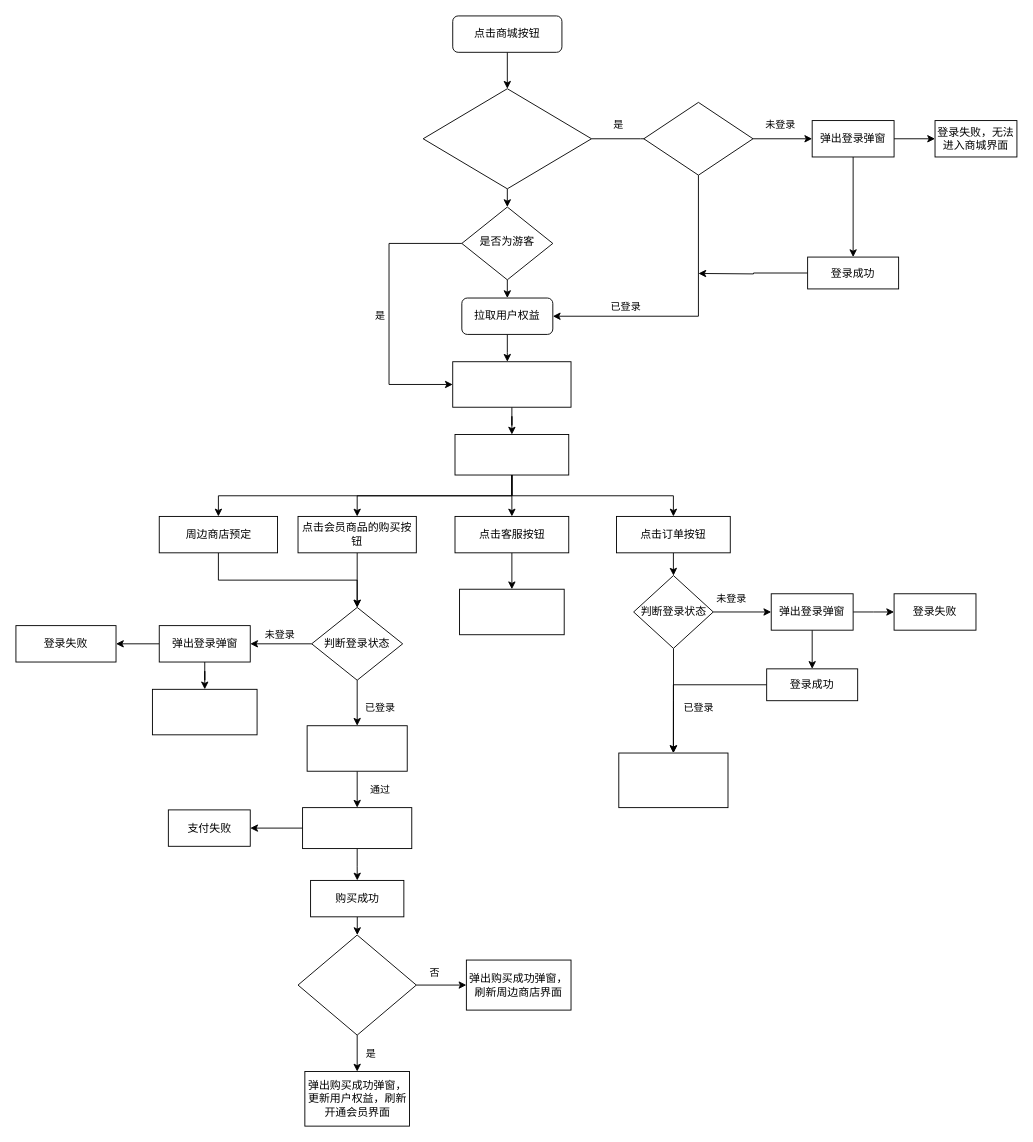
This 1033x1142 diagram has some shape labels left out. The shapes that lost their labels are listed below. From the top down, each one's box as (x1, y1, x2, y2) in pixels, then its label:
(422, 88, 592, 189): 获取运营配置， 进入商城是否需要登录
(643, 101, 753, 175): 检测登录状态
(452, 361, 571, 407): 拉取商品展示信息
(454, 434, 569, 475): 根据运营配置tab优先级显示界面
(459, 588, 564, 635): 打开客服界面
(152, 688, 257, 735): 登录成功，刷新界面，购买需再次点击
(306, 725, 407, 771): 打开家长验证界面
(618, 752, 728, 808): 打开商品交易中心订单列表
(302, 807, 412, 849): 打开商品交易中心
(297, 934, 416, 1035): 是否会员商品购买
